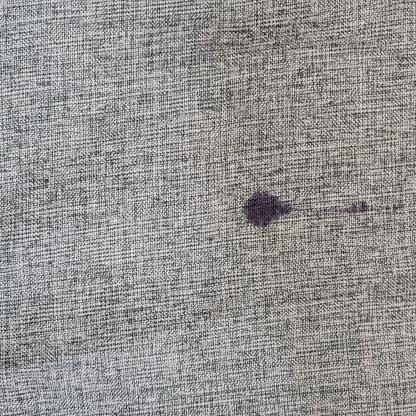spot: (240, 169, 302, 242), (334, 180, 413, 235)
